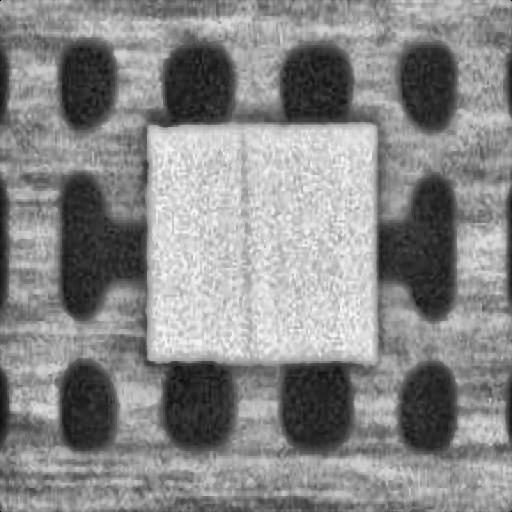DIE_CRACK: (236, 128, 250, 356)
